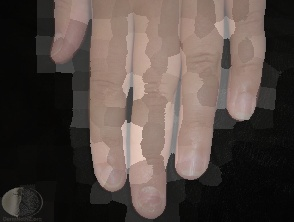Nail_psoriasis: (93, 157, 131, 195), (133, 184, 165, 219), (47, 30, 69, 63)
